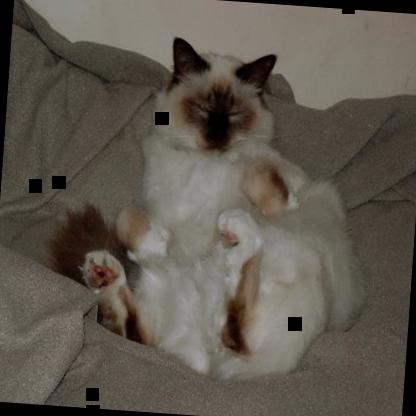cat: (78, 33, 378, 391)
